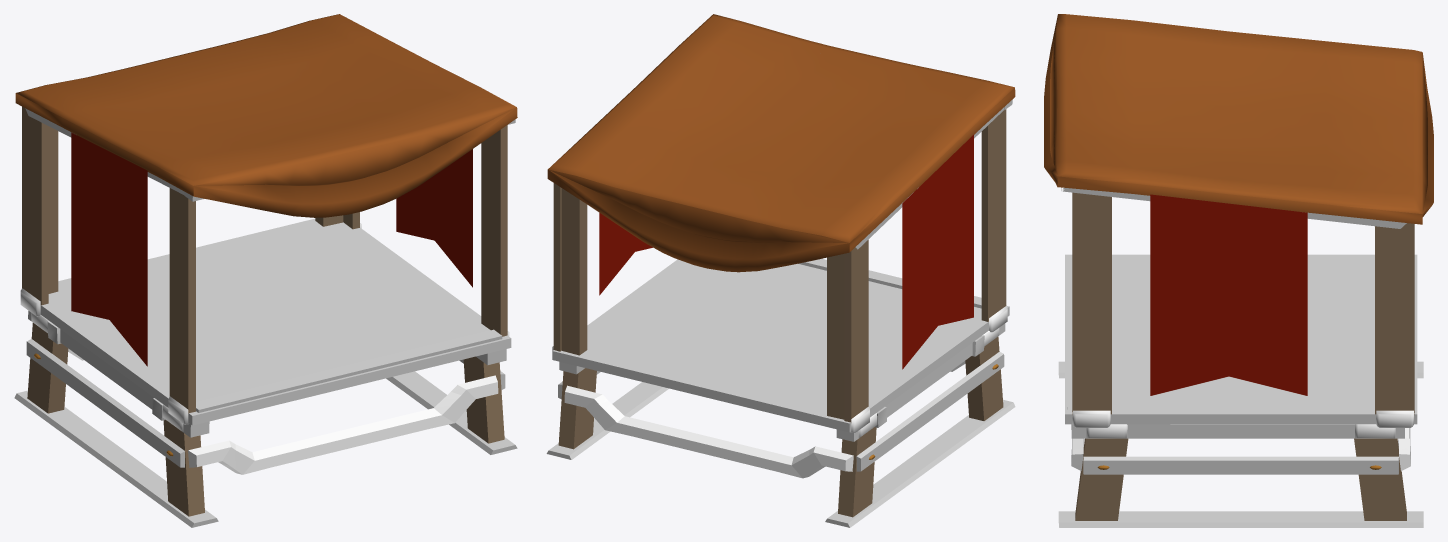
File: stall.glb
3 renders of one model, left to right at view 1: azimuth 30°, elevation 25°; view 2: azimuth 150°, elevation 25°; view 3: azimuth 270°, elevation 25°, orthographic. The views are drawn at different scales.
Visible parts, largest first — view 1: Stall_Empty; view 2: Stall_Empty; view 3: Stall_Empty.
Boxes of the visible parts, <box> form: Stall_Empty: <box>14,14,517,527</box>; Stall_Empty: <box>546,14,1015,527</box>; Stall_Empty: <box>1044,14,1433,527</box>.
Bounding box in the file's own units: 1 × 1 × 1.
